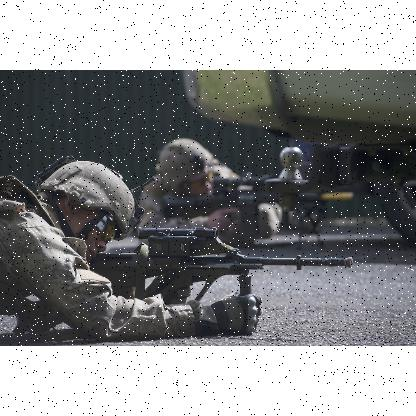gun: (155, 143, 355, 251), (88, 226, 352, 300)
